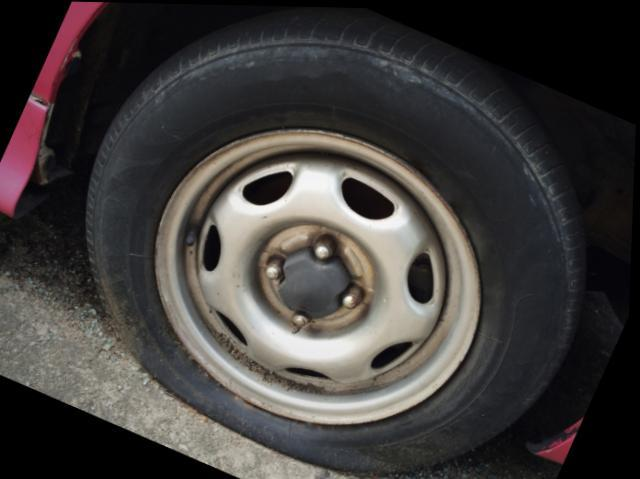tire flat: (85, 5, 592, 474)
